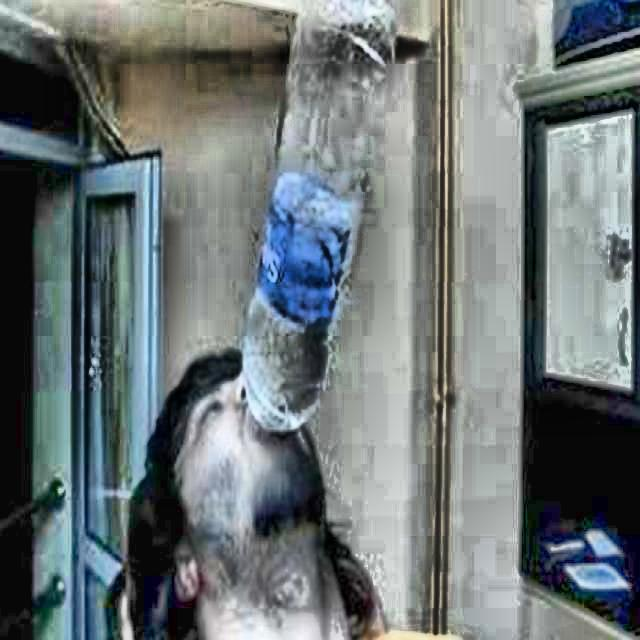plastic bottle: (242, 0, 395, 432)
